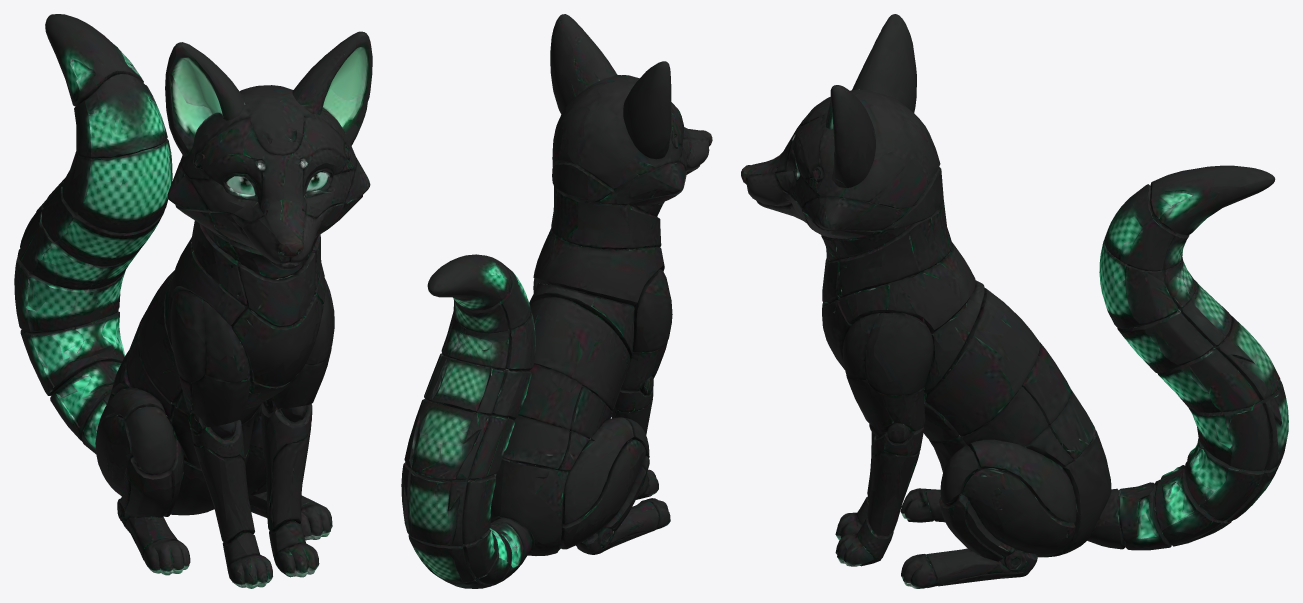
Rendered from kora.glb.
The picture shows the model from 3 angles, left to right: view 1: azimuth 30°, elevation 25°; view 2: azimuth 150°, elevation 25°; view 3: azimuth 270°, elevation 25°; orthographic projection. The views are drawn at different scales.
Parts seen in each view (by area): view 1: mesh_node; view 2: mesh_node; view 3: mesh_node.
Part boxes in pixels (left/top/right/bottom): mesh_node: left=14, top=14, right=372, bottom=588; mesh_node: left=401, top=14, right=712, bottom=588; mesh_node: left=741, top=14, right=1288, bottom=588.
Bounding box in the file's own units: 0.6778 × 1.9 × 1.88.
Materials: 1 (1 with a texture image).
